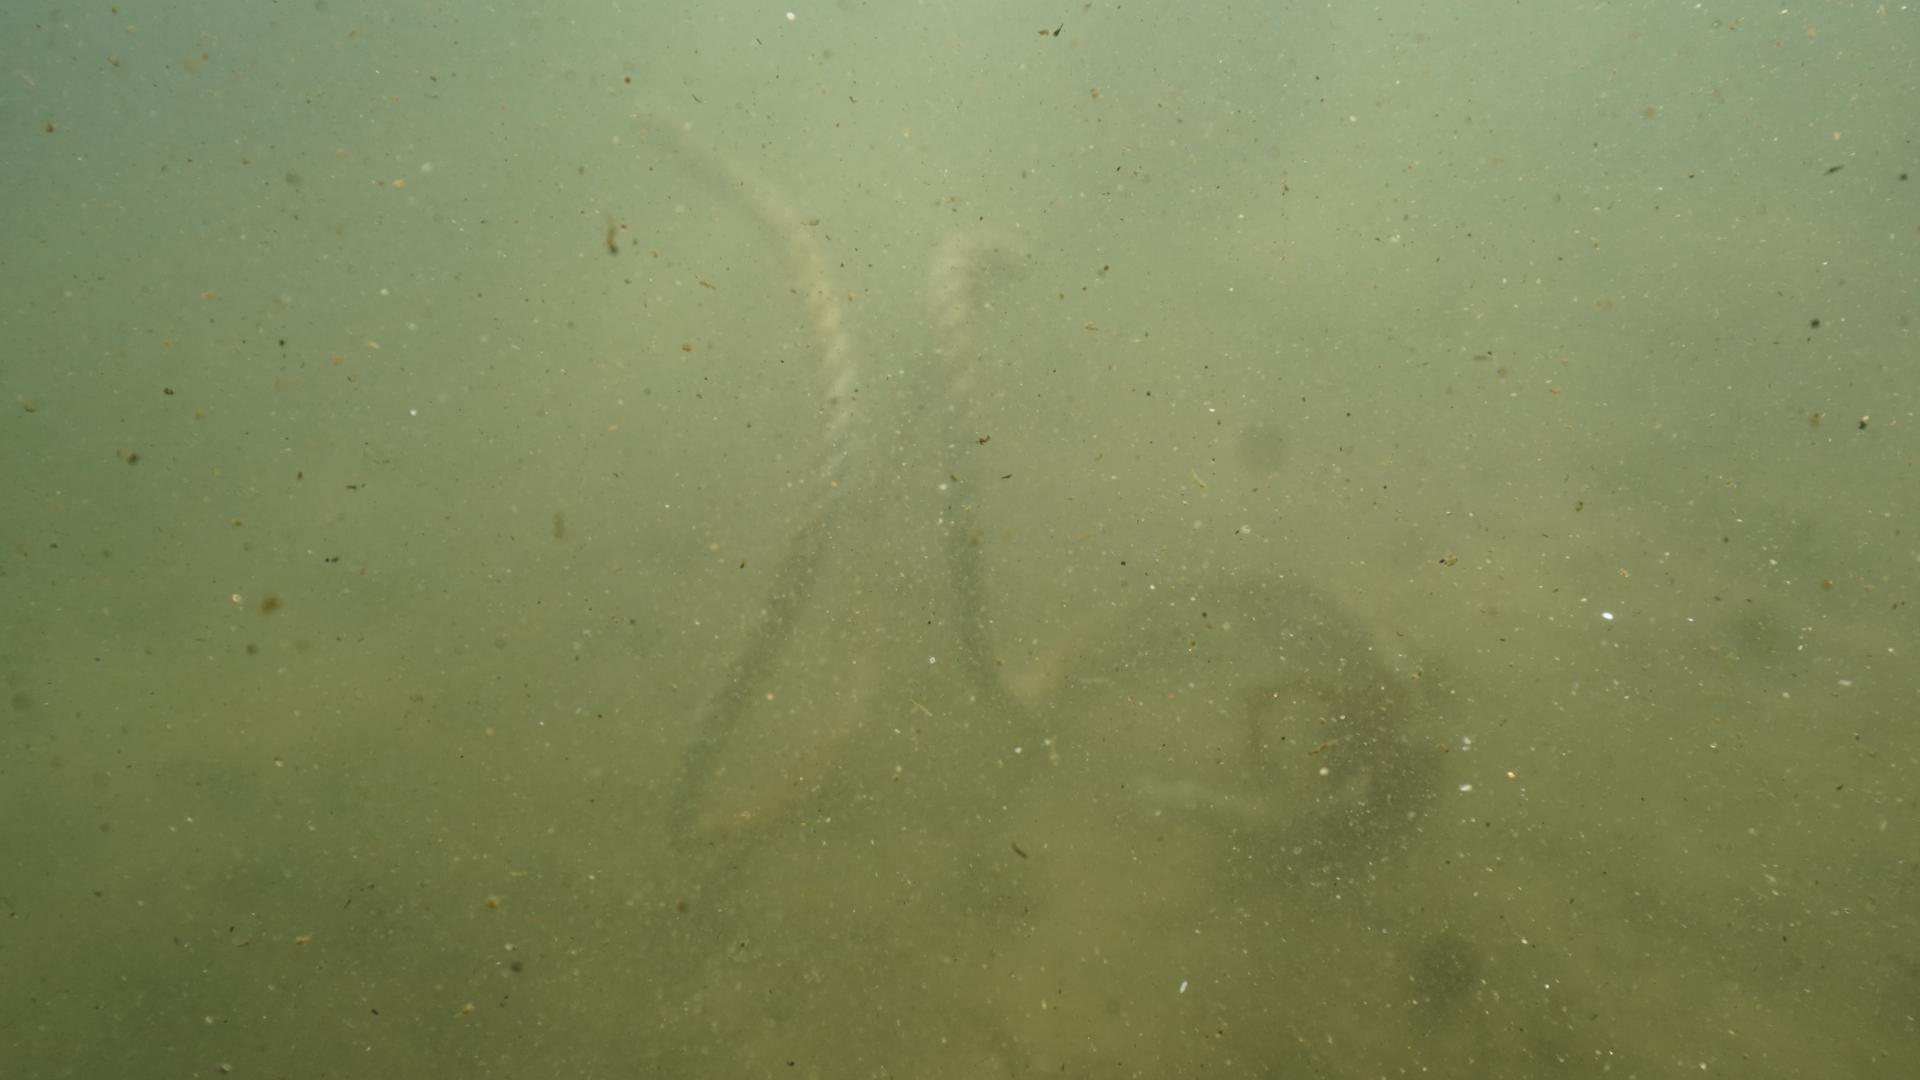bundle of ropes: (611, 99, 1424, 872)
